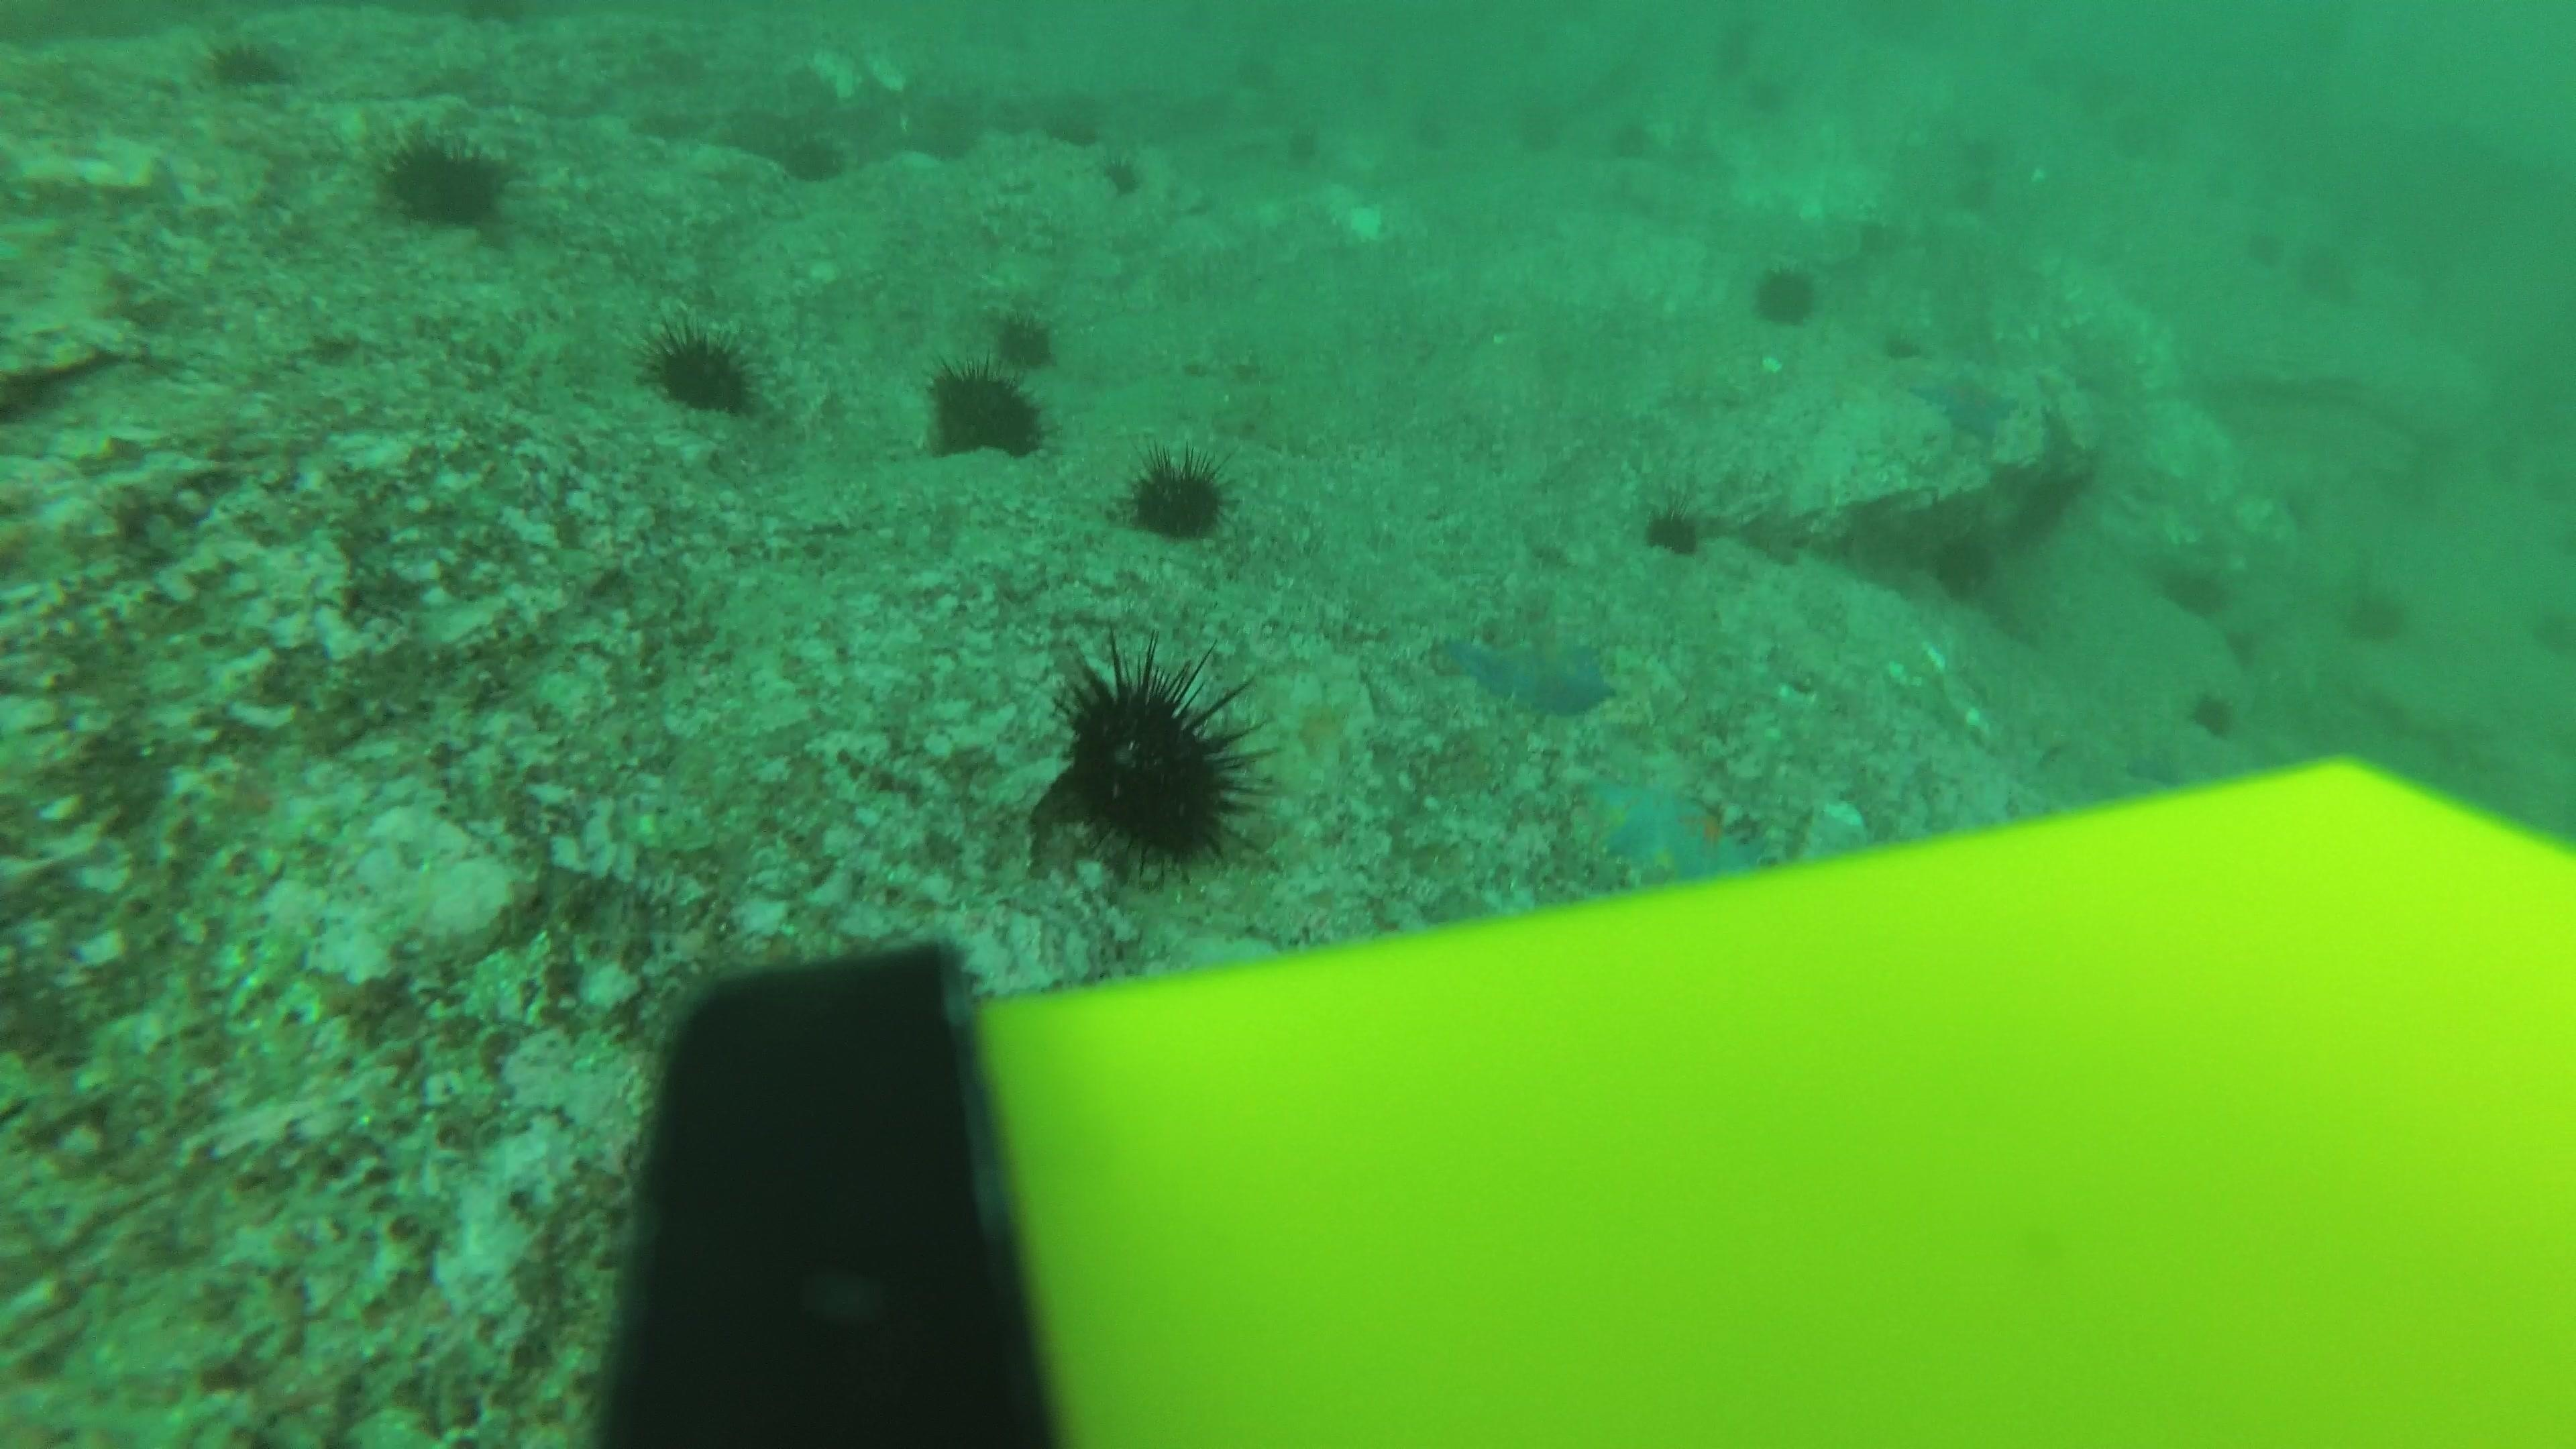echinus: (1044, 640, 1270, 878), (375, 126, 520, 234), (922, 357, 1047, 462), (640, 318, 763, 419), (1122, 448, 1233, 543), (200, 30, 295, 92), (2155, 548, 2236, 619), (1925, 527, 2001, 602), (913, 88, 985, 165), (1750, 260, 1826, 331), (2339, 579, 2413, 648), (1638, 494, 1711, 559), (991, 306, 1058, 370), (777, 127, 849, 186), (1042, 88, 1106, 150), (2187, 686, 2240, 741), (1948, 173, 2010, 219), (1847, 216, 1907, 262), (1346, 62, 1407, 108), (1265, 127, 1327, 172), (2236, 226, 2296, 271), (2190, 159, 2250, 203), (2102, 117, 2162, 161), (1960, 126, 2020, 170), (1739, 71, 1799, 115), (1704, 27, 1764, 71), (1608, 115, 1668, 159), (1511, 106, 1571, 150), (1394, 113, 1454, 157), (1226, 50, 1286, 94), (1097, 150, 1146, 200), (1882, 329, 1927, 366)
starfish: (1575, 764, 1762, 885), (1433, 623, 1621, 722), (1897, 356, 2026, 444), (1290, 678, 1369, 775)
